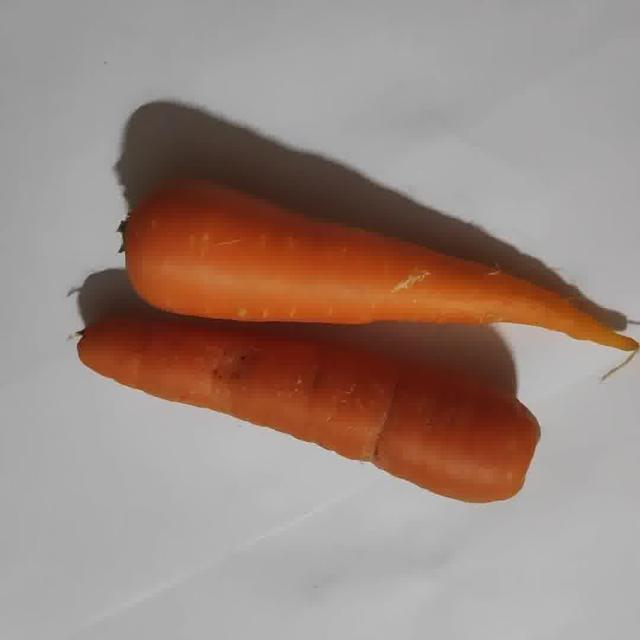Carrot: (78, 310, 539, 501), (127, 186, 637, 350)
